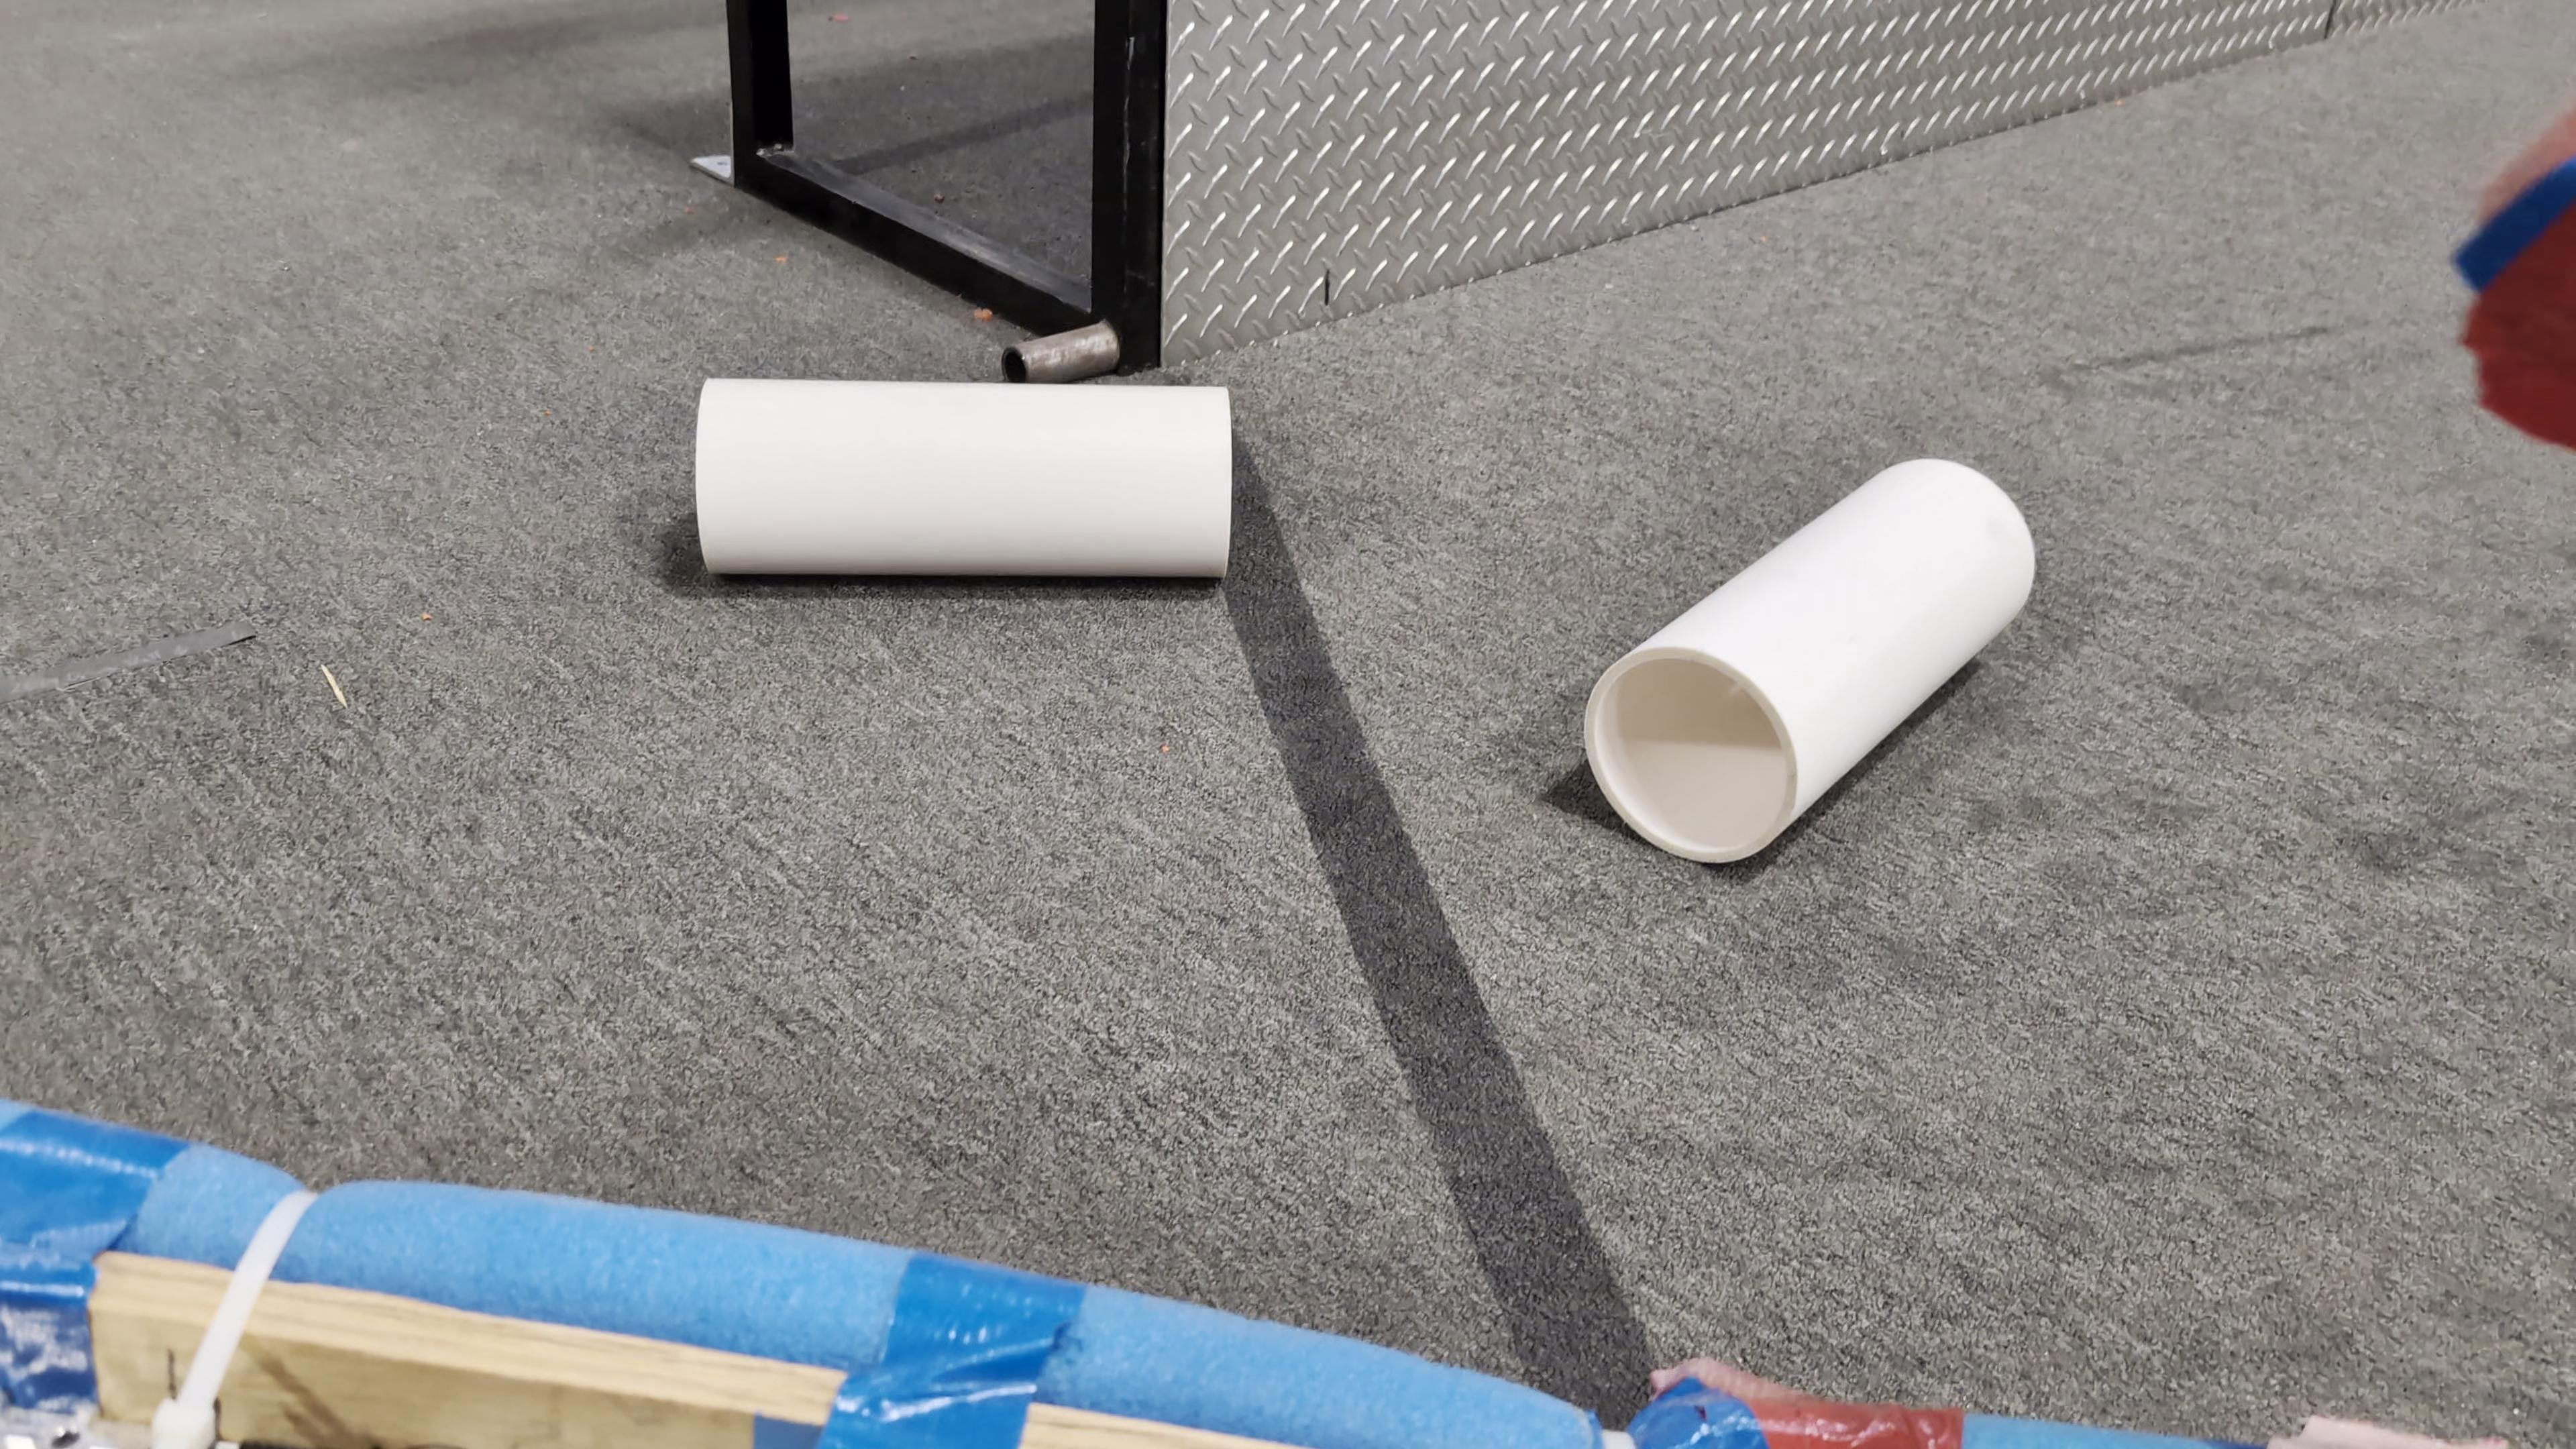coral: (1583, 453, 2038, 862), (692, 372, 1237, 575)
